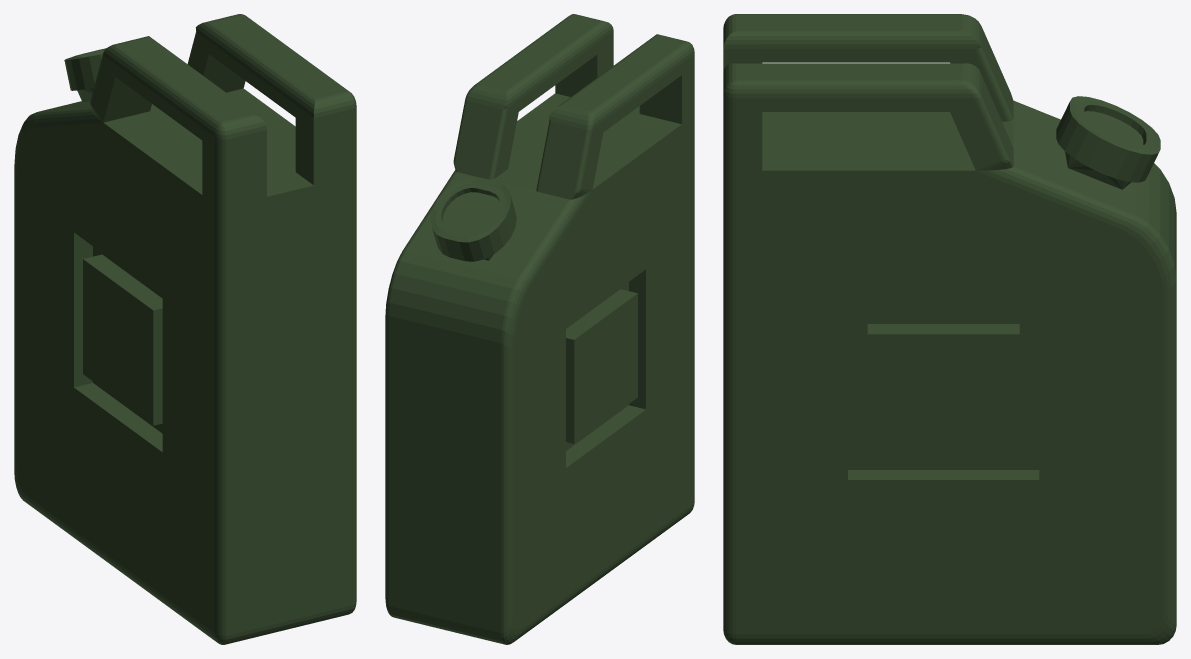
Rendered from can.fbx.
3 views of the same model, side by side, from view 1: azimuth 30°, elevation 25°; view 2: azimuth 150°, elevation 25°; view 3: azimuth 270°, elevation 25° (orthographic). The views are drawn at different scales.
Parts seen in each view (by area): view 1: Cube.001; view 2: Cube.001; view 3: Cube.001.
Boxes of the visible parts, left/top/right/bottom form: Cube.001: left=14, top=14, right=356, bottom=644; Cube.001: left=385, top=14, right=694, bottom=644; Cube.001: left=723, top=14, right=1176, bottom=644.
Size of the model in its own units: 63.85 by 227 by 165.
